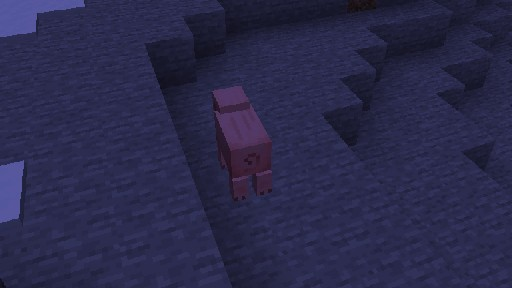pig: (211, 84, 272, 201)
